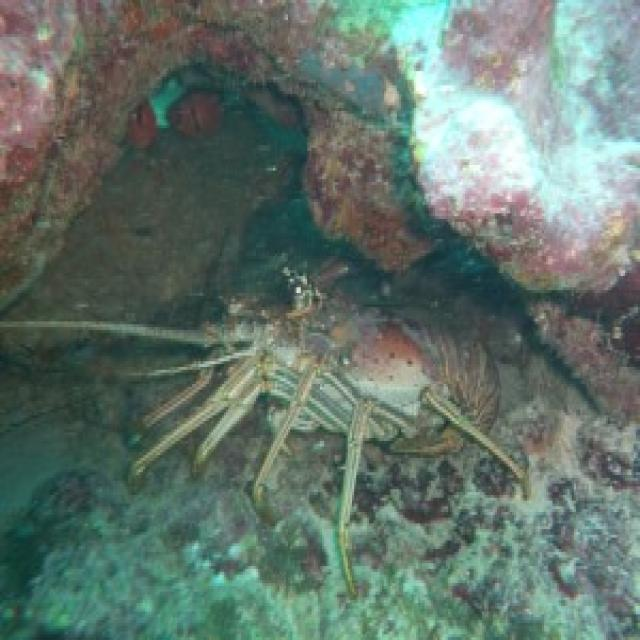lobsters: (154, 49, 528, 545)
